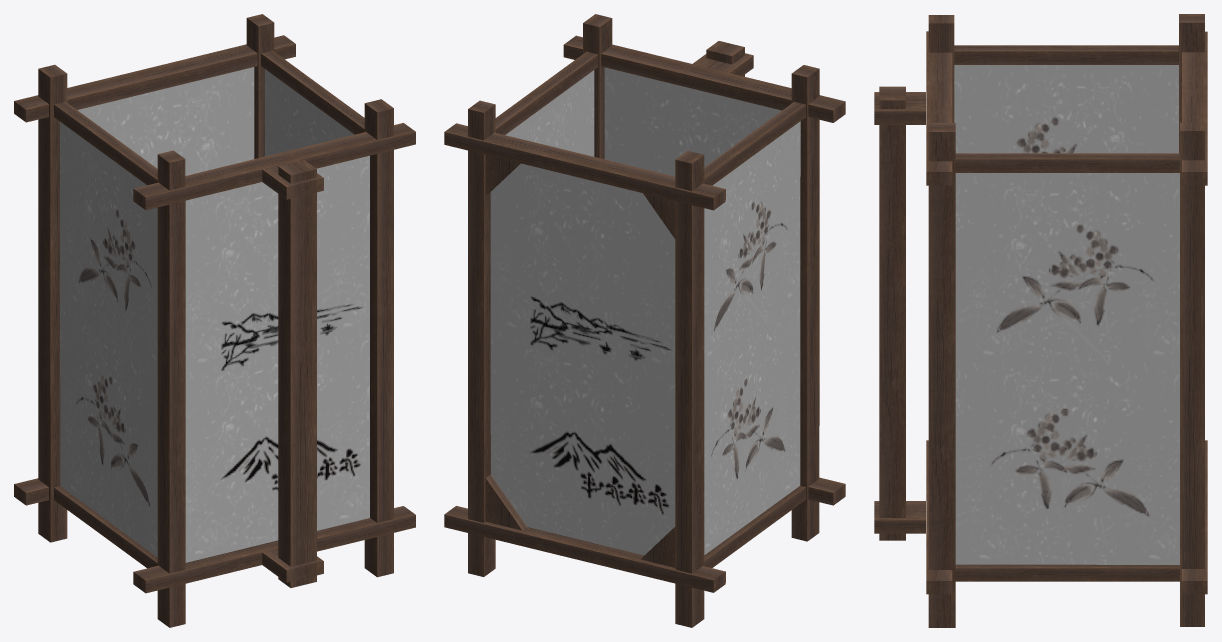
Rendered from jov_andon03a.fbx.
The picture shows the model from 3 angles, left to right: view 1: azimuth 30°, elevation 25°; view 2: azimuth 150°, elevation 25°; view 3: azimuth 270°, elevation 25°; orthographic projection. The views are drawn at different scales.
Visible parts, largest first — view 1: jov_andon03a; view 2: jov_andon03a; view 3: jov_andon03a.
Boxes of the visible parts, x1=… form: jov_andon03a: x1=14, y1=14, x2=415, y2=627; jov_andon03a: x1=444, y1=14, x2=845, y2=627; jov_andon03a: x1=874, y1=14, x2=1207, y2=627.
Size of the model in its own units: 36.43 by 59.9 by 36.5.
